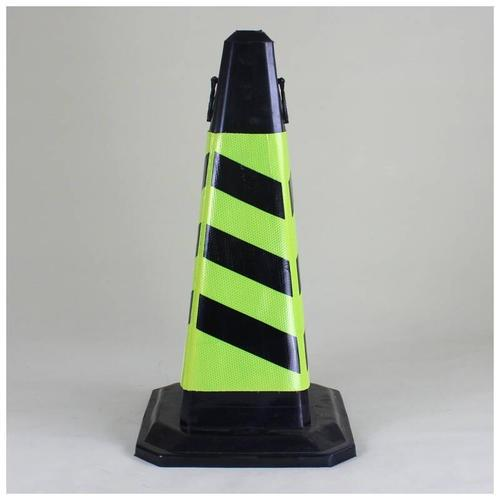cone_barrel: (147, 34, 342, 451)
